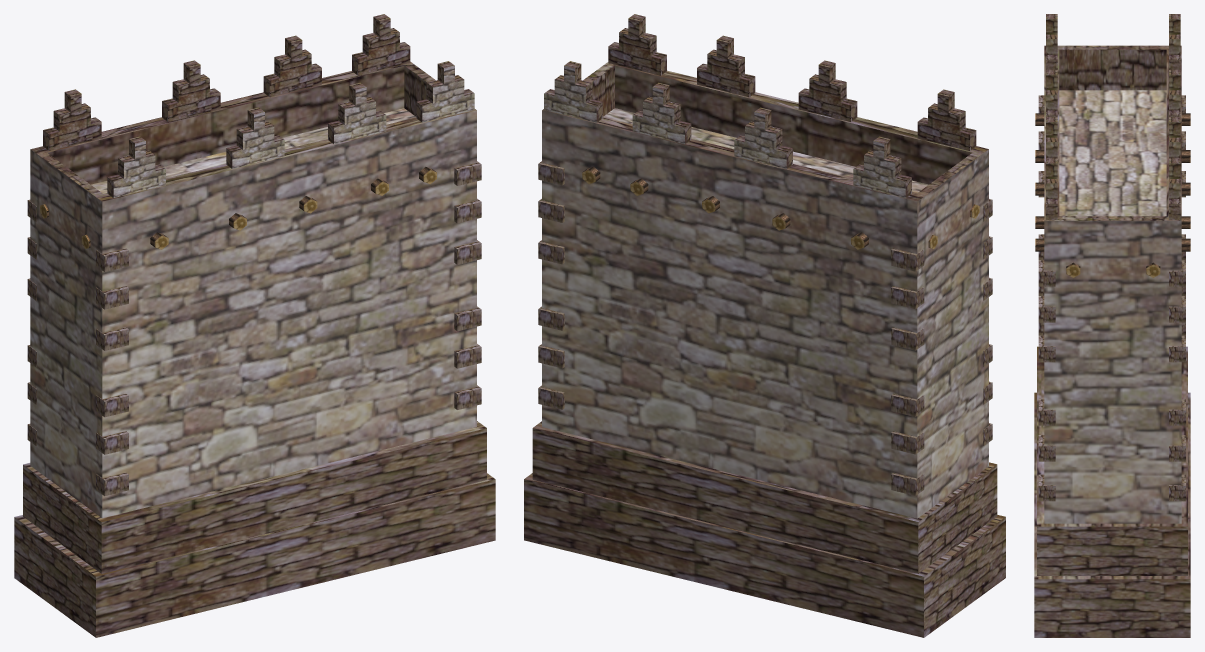
File: wall_medium.dae
The picture shows the model from 3 angles, left to right: view 1: azimuth 30°, elevation 25°; view 2: azimuth 150°, elevation 25°; view 3: azimuth 270°, elevation 25°; orthographic projection. The views are drawn at different scales.
Parts seen in each view (by area): view 1: wall_medium; view 2: wall_medium; view 3: wall_medium.
Boxes of the visible parts, bbox=[...] form: wall_medium: bbox=[14, 14, 495, 637]; wall_medium: bbox=[524, 14, 1005, 637]; wall_medium: bbox=[1034, 14, 1190, 637].
Size of the model in its own units: 17.8 by 6.31 by 20.4.
